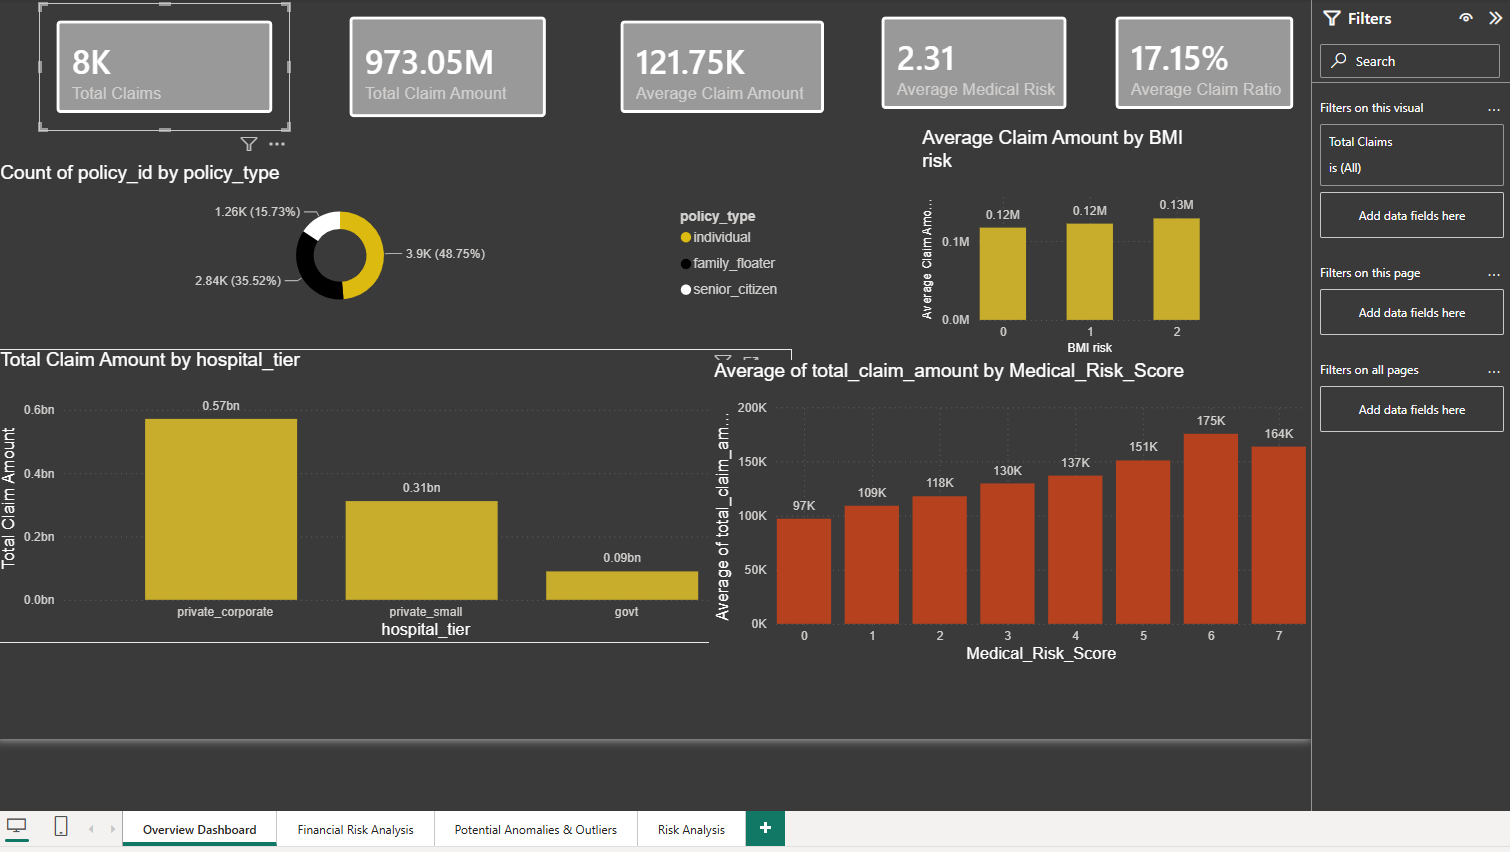

Layout of this report page (visuals, bound fields, positions):
{"tool":"powerbi","page":{"name":"Overview Dashboard","canvas":[1280,720],"ordinal":0},"visuals":[{"type":"cardVisual","fields":{"Data":["indian_health_insurance_claims_.Total Claims"]},"box":[42.8,3.9,244.1,124.5],"z":0},{"type":"cardVisual","fields":{"Data":["claims.Total Claim Amount"]},"box":[327.8,0,225.7,132.3],"z":1000},{"type":"cardVisual","fields":{"Data":["claims.Average Medical Risk"]},"box":[845.2,0,215,124.5],"z":2000},{"type":"cardVisual","fields":{"Data":["claims.Average Claim Amount"]},"box":[591.4,3.9,232.5,124.5],"z":3000},{"type":"cardVisual","fields":{"Data":["claims.Average Claim Ratio"]},"box":[1072.8,0,207.2,124.5],"z":4000},{"type":"donutChart","fields":{"Category":["claims.policy_type"],"Y":["CountNonNull(claims.policy_id)"]},"box":[0,158.5,775.2,149.8],"z":5000},{"type":"clusteredColumnChart","fields":{"Category":["claims.hospital_tier"],"Y":["claims.Total Claim Amount"]},"box":[0,340.4,775.2,286],"z":6000},{"type":"clusteredColumnChart","fields":{"Category":["claims.BMI risk"],"Y":["claims.Average Claim Amount"]},"box":[896.8,124.5,280.1,226.6],"z":7000},{"type":"clusteredColumnChart","fields":{"Category":["claims.Medical_Risk_Score"],"Y":["Avg(claims.total_claim_amount)"]},"box":[694.5,351.1,585.5,298.6],"z":8000}]}

Visuals, with their boxes on the page's 1280x720 design canvas (x1, y1, x2, y2). These are canvas units, not pixel positions in the 1510x852 screenshot, which may show the page scaled, cropped or inside an application window:
cardVisual - indian_health_insurance_claims_.Total Claims: region(43, 4, 287, 128)
cardVisual - claims.Total Claim Amount: region(328, 0, 554, 132)
cardVisual - claims.Average Medical Risk: region(845, 0, 1060, 124)
cardVisual - claims.Average Claim Amount: region(591, 4, 824, 128)
cardVisual - claims.Average Claim Ratio: region(1073, 0, 1280, 124)
donutChart - claims.policy_type x CountNonNull(claims.policy_id): region(0, 158, 775, 308)
clusteredColumnChart - claims.hospital_tier x claims.Total Claim Amount: region(0, 340, 775, 626)
clusteredColumnChart - claims.BMI risk x claims.Average Claim Amount: region(897, 124, 1177, 351)
clusteredColumnChart - claims.Medical_Risk_Score x Avg(claims.total_claim_amount): region(694, 351, 1280, 650)
